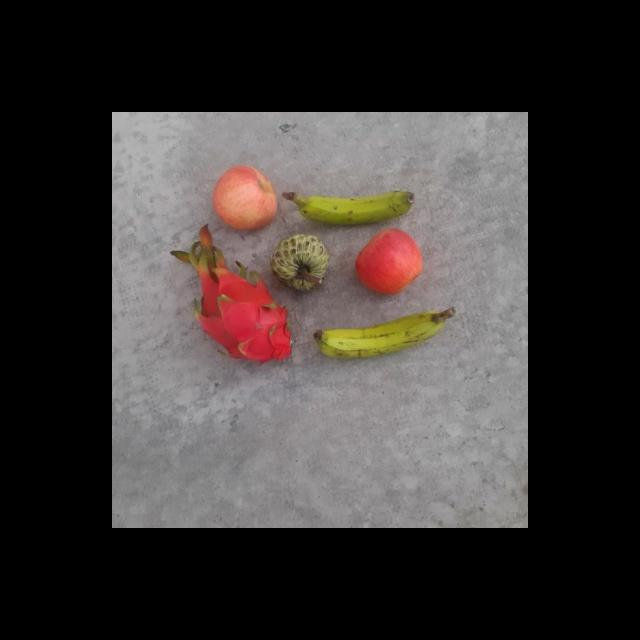Sakya fruit: (266, 230, 330, 292)
apple: (352, 225, 424, 297), (209, 164, 279, 232)
banana: (311, 305, 447, 364), (291, 184, 418, 232)
pitaya: (190, 273, 296, 367)
